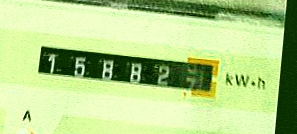1: (43, 50, 59, 73)
2: (153, 62, 171, 87)
5: (71, 52, 87, 78)
7: (183, 72, 197, 90)
8: (126, 59, 143, 85), (99, 57, 114, 81)
screen: (26, 34, 228, 107)
